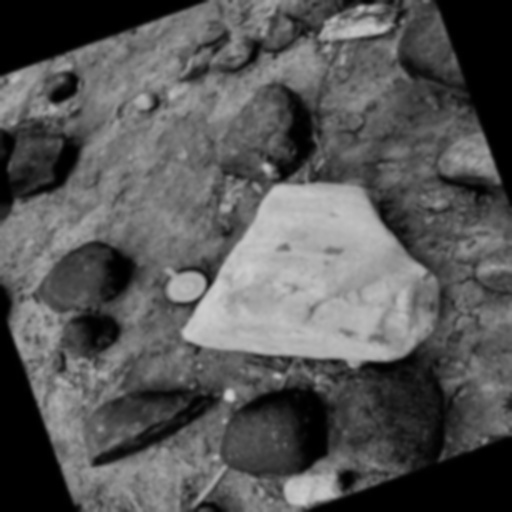bottle: (156, 254, 219, 312)
